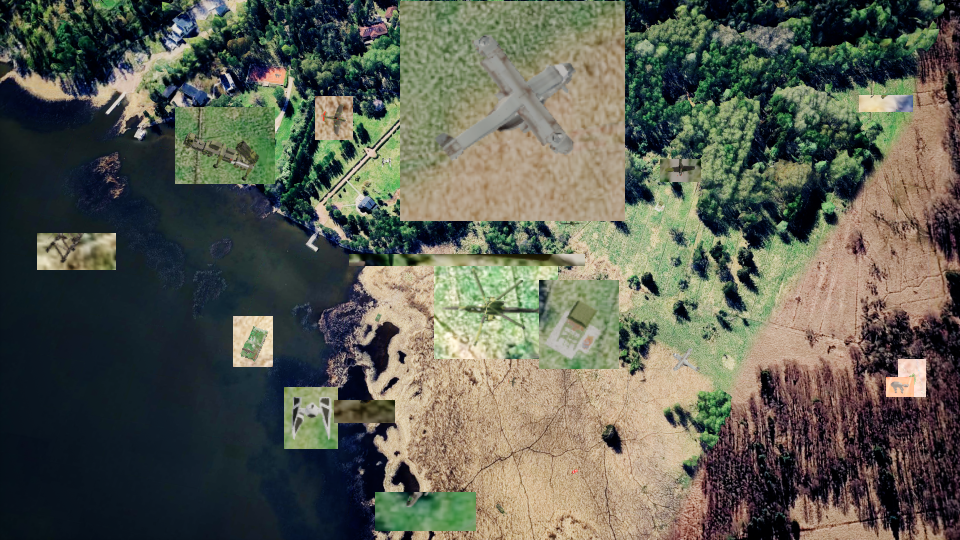condor: (400, 1, 625, 221)
hangar: (349, 254, 585, 266)
helicopter: (434, 259, 558, 359)
jammer: (233, 316, 273, 367)
jet_plane: (375, 492, 476, 531)
large_launcher: (175, 107, 275, 184)
large_tower: (37, 233, 116, 270)
medium_launcher: (334, 400, 395, 423)
medium_plane: (660, 159, 701, 182)
mine_roller: (544, 102, 585, 148)
small_launcher: (898, 359, 926, 397)
small_plane: (315, 96, 353, 140)
small_tower: (539, 280, 619, 369)
spacecraft: (284, 387, 338, 449)
ta-ta: (886, 377, 914, 397)
tank: (859, 95, 913, 112)
